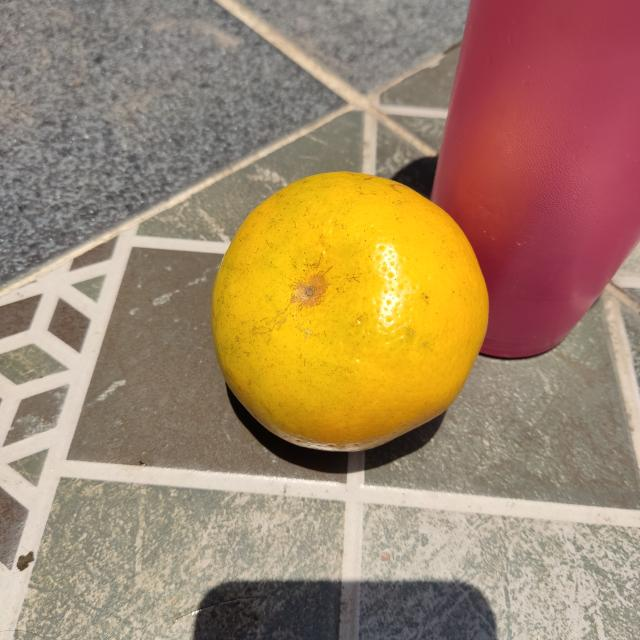orange: (212, 172, 488, 454)
